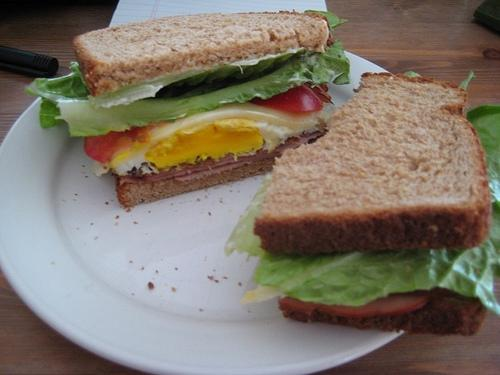lettuce: (224, 105, 500, 316), (23, 10, 352, 138)
tomato: (279, 290, 428, 317), (83, 123, 165, 163), (248, 84, 323, 112)
